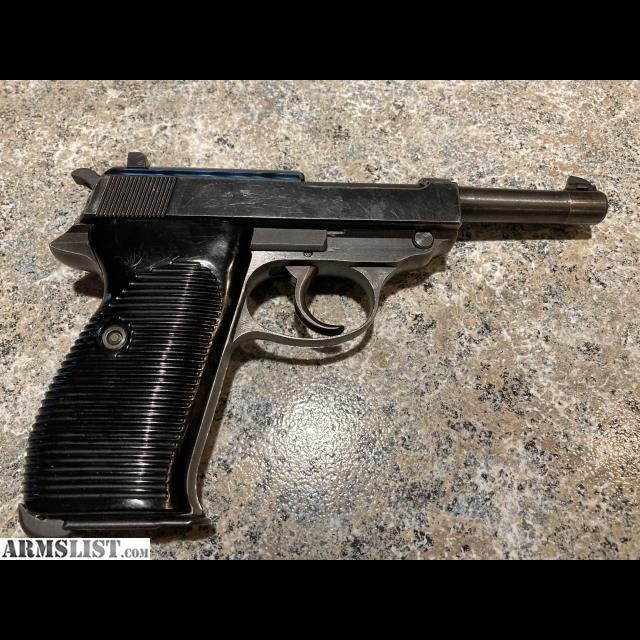handgun: (13, 147, 613, 547)
